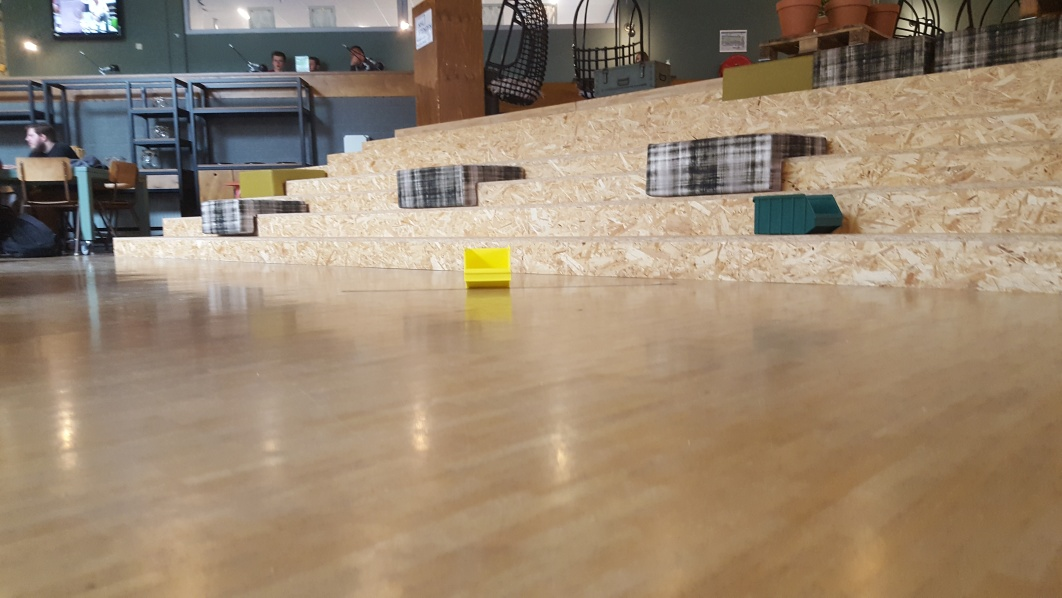tray: (745, 188, 846, 238), (458, 238, 513, 290)
